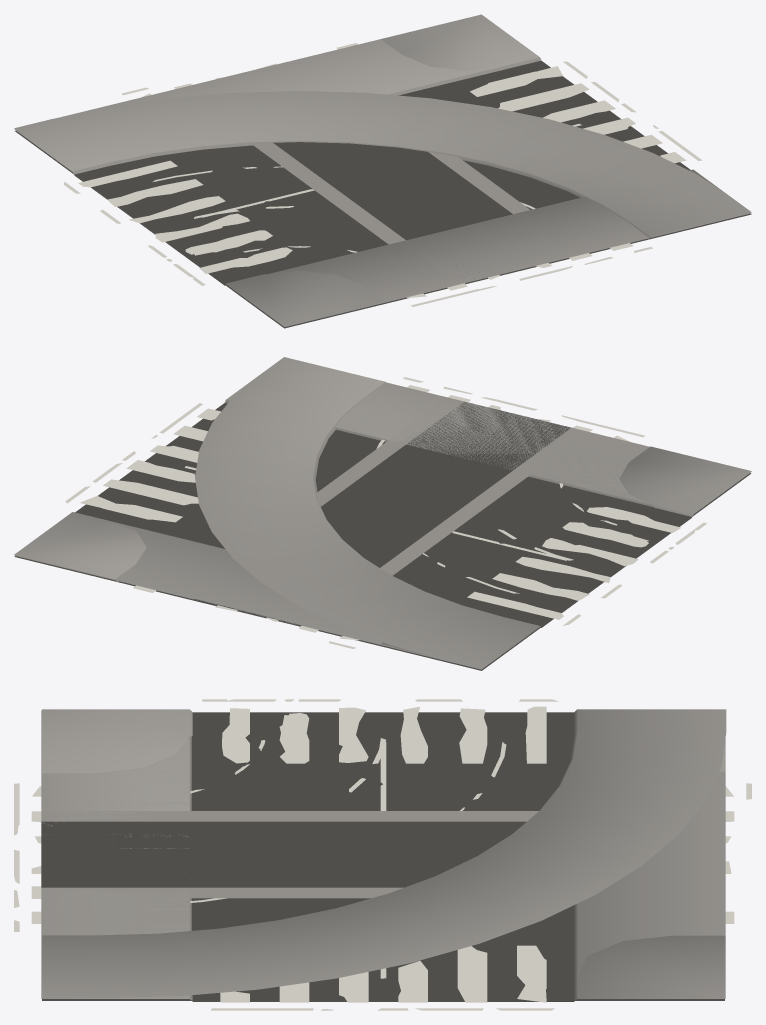
The model's file is road_2L.FBX.
The picture shows the model from 3 angles, top to bottom: view 1: azimuth 30°, elevation 25°; view 2: azimuth 150°, elevation 25°; view 3: azimuth 270°, elevation 25°; orthographic projection. The views are drawn at different scales.
Parts seen in each view (by area): view 1: LOD0 (×6); view 2: LOD0 (×6); view 3: LOD0 (×6).
Part boxes in pixels (left/top/right/bottom): LOD0 (×6): left=14, top=14, right=751, bottom=328; LOD0 (×6): left=14, top=357, right=751, bottom=670; LOD0 (×6): left=14, top=699, right=751, bottom=1010.
Size of what is drawn, in the model's own units: 1948 by 11.56 by 1951.
